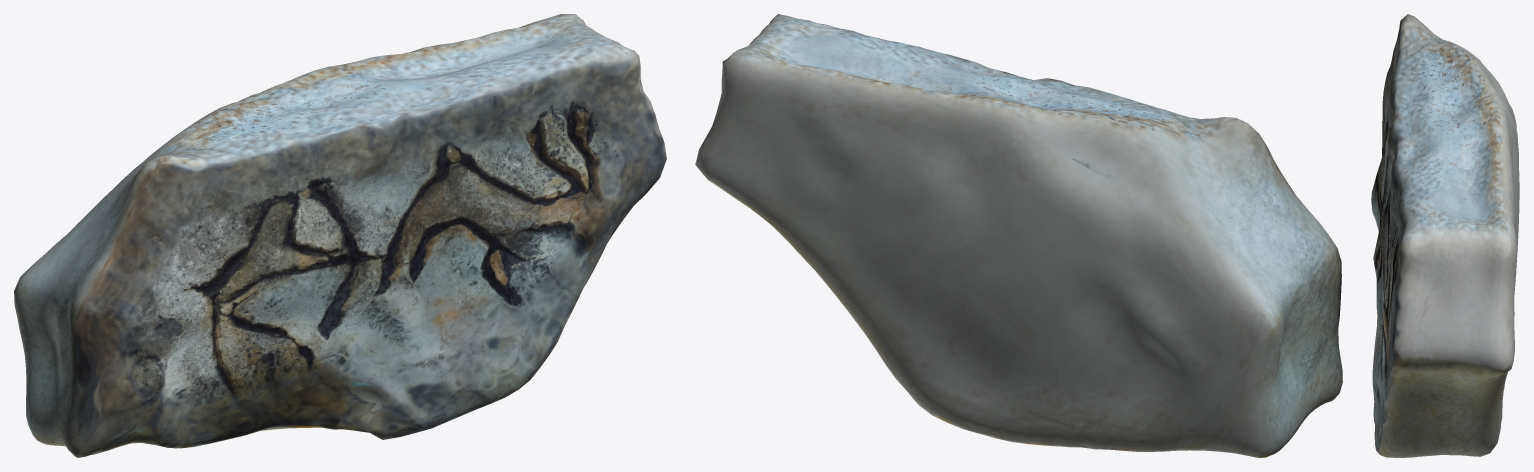
3 renders of one model, left to right at view 1: azimuth 30°, elevation 25°; view 2: azimuth 150°, elevation 25°; view 3: azimuth 270°, elevation 25°, orthographic. The views are drawn at different scales.
Parts seen in each view (by area): view 1: Cave_painting_Mesh; view 2: Cave_painting_Mesh; view 3: Cave_painting_Mesh.
Part boxes in pixels (left/top/right/bottom): Cave_painting_Mesh: left=14, top=14, right=666, bottom=457; Cave_painting_Mesh: left=695, top=14, right=1342, bottom=457; Cave_painting_Mesh: left=1371, top=14, right=1519, bottom=457.
Bounding box in the file's own units: 1.04 × 0.5759 × 0.238.
1 material, 1 textured.
